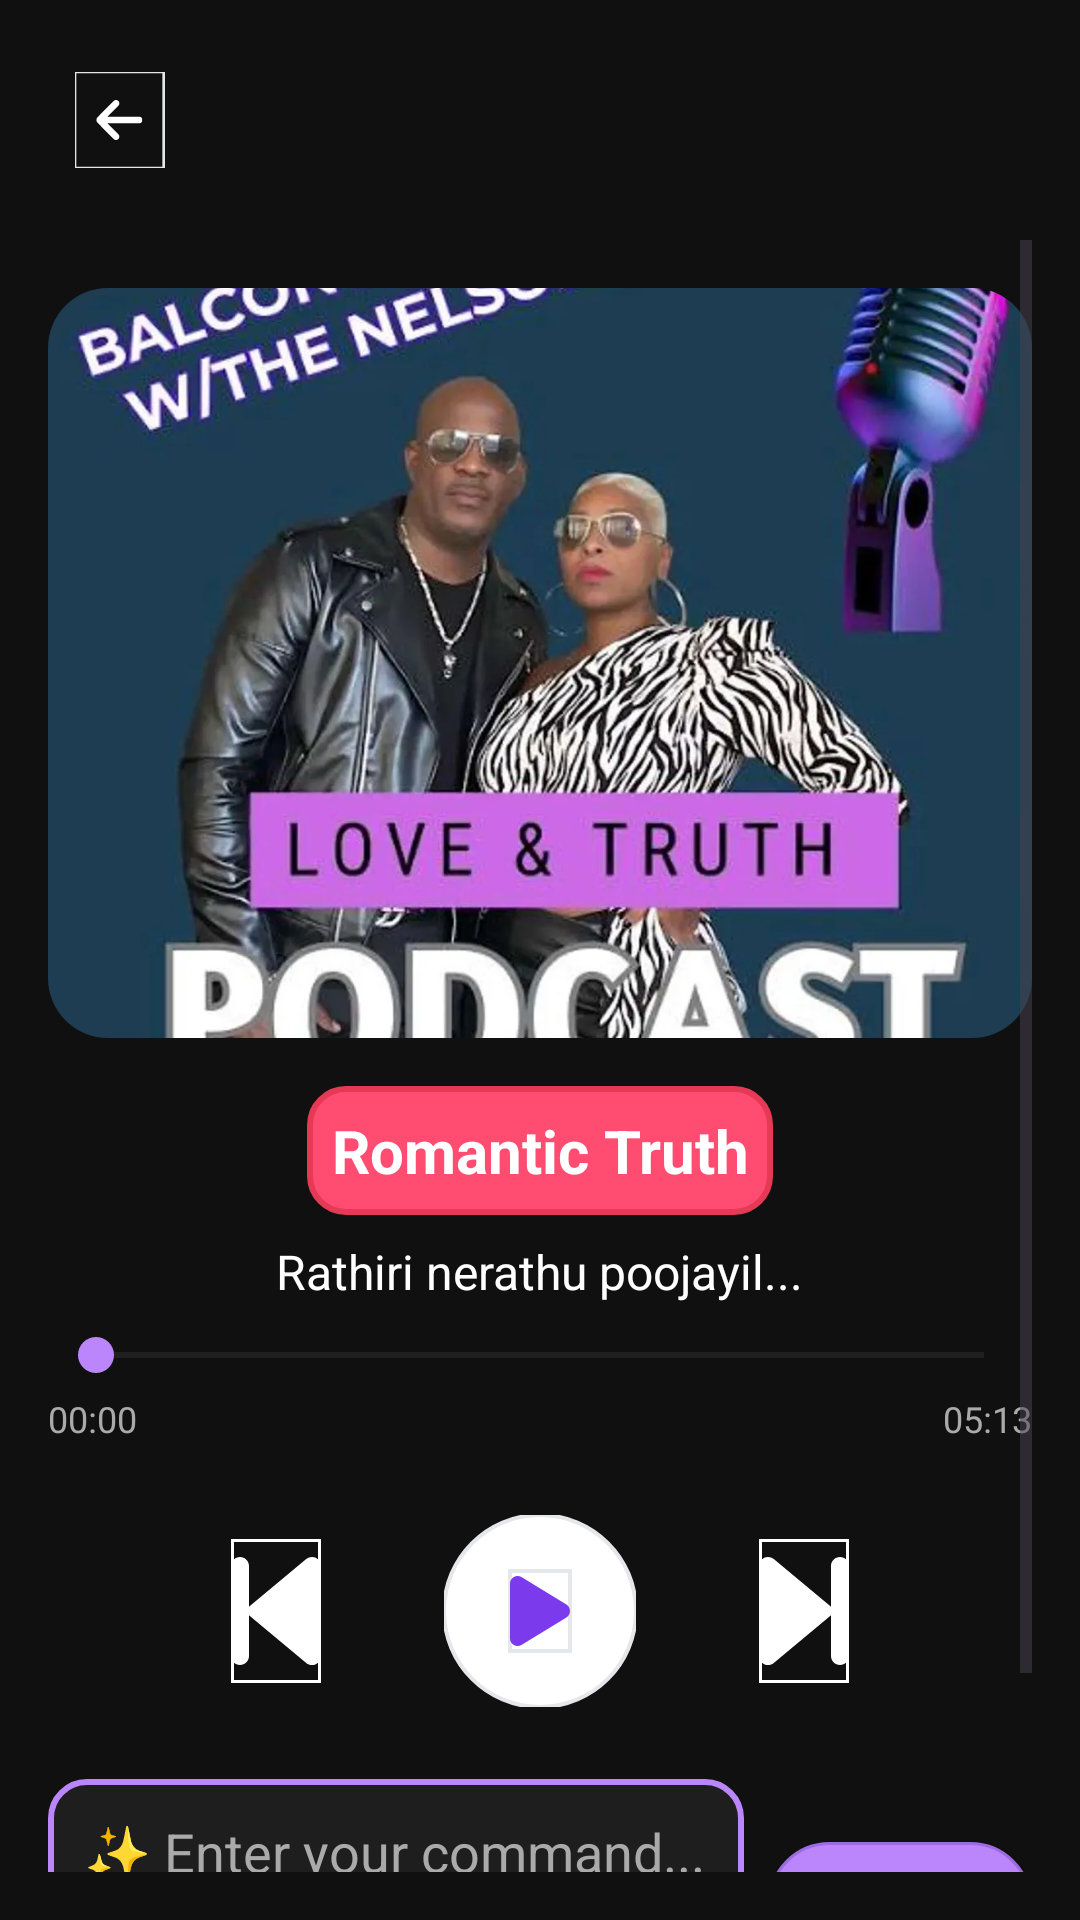

Icons on this 1080 × 1920 Android screen, each with the point to tap as (x=x, y=y):
Back: (x=120, y=120)
Next: (x=804, y=1611)
Play: (x=540, y=1611)
Previous: (x=276, y=1611)
